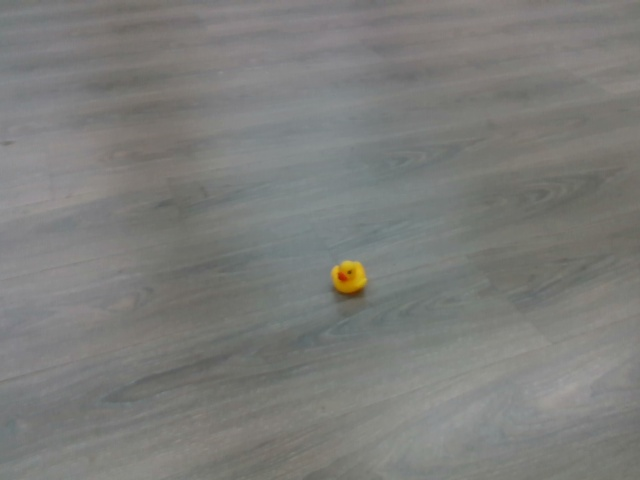duck: (328, 258, 368, 295)
